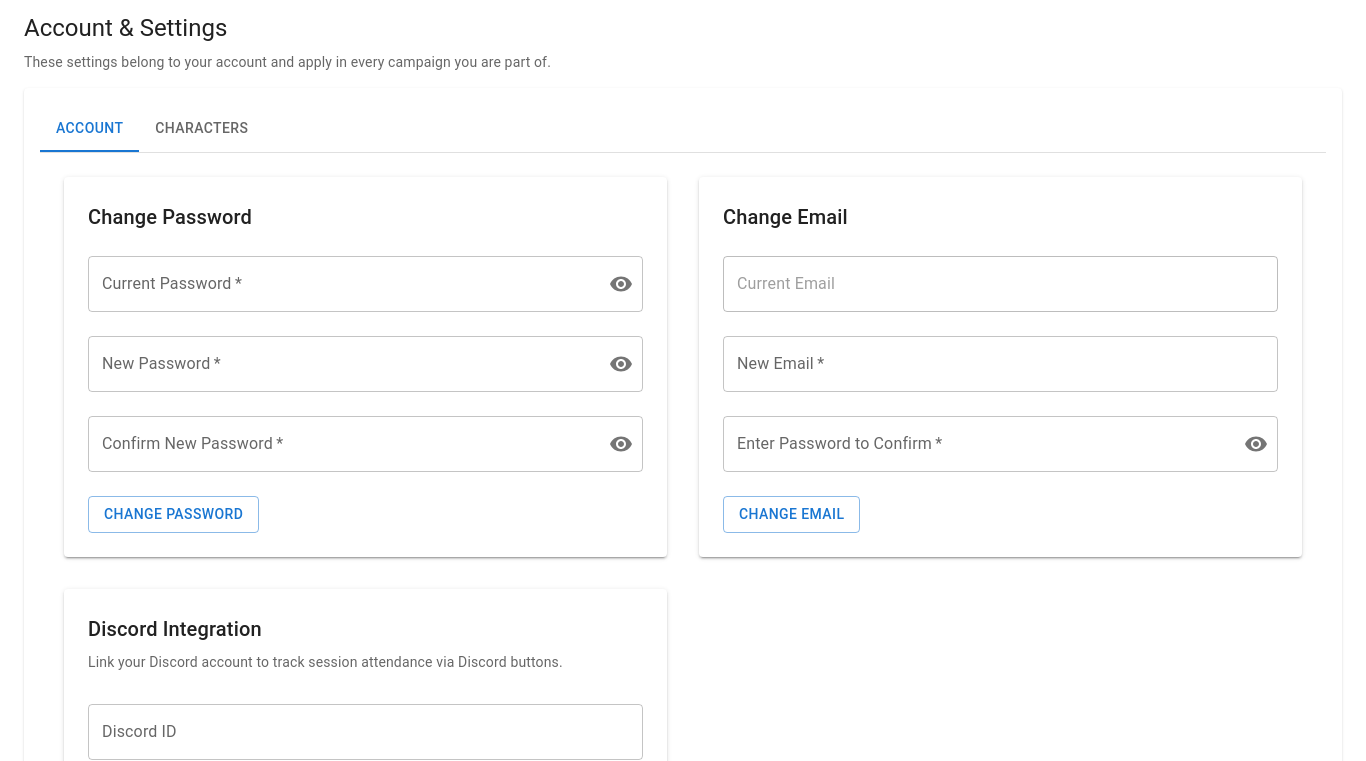
UserSettings › shows password validation error for short new password
Expected: the heading "Change Password" is shown, left=88, top=205, right=252, bottom=229
Type "oldpass123" into the password field labelled "Current Password *".
click(340, 284); type("oldpass123")  # box left=88, top=256, right=593, bottom=312
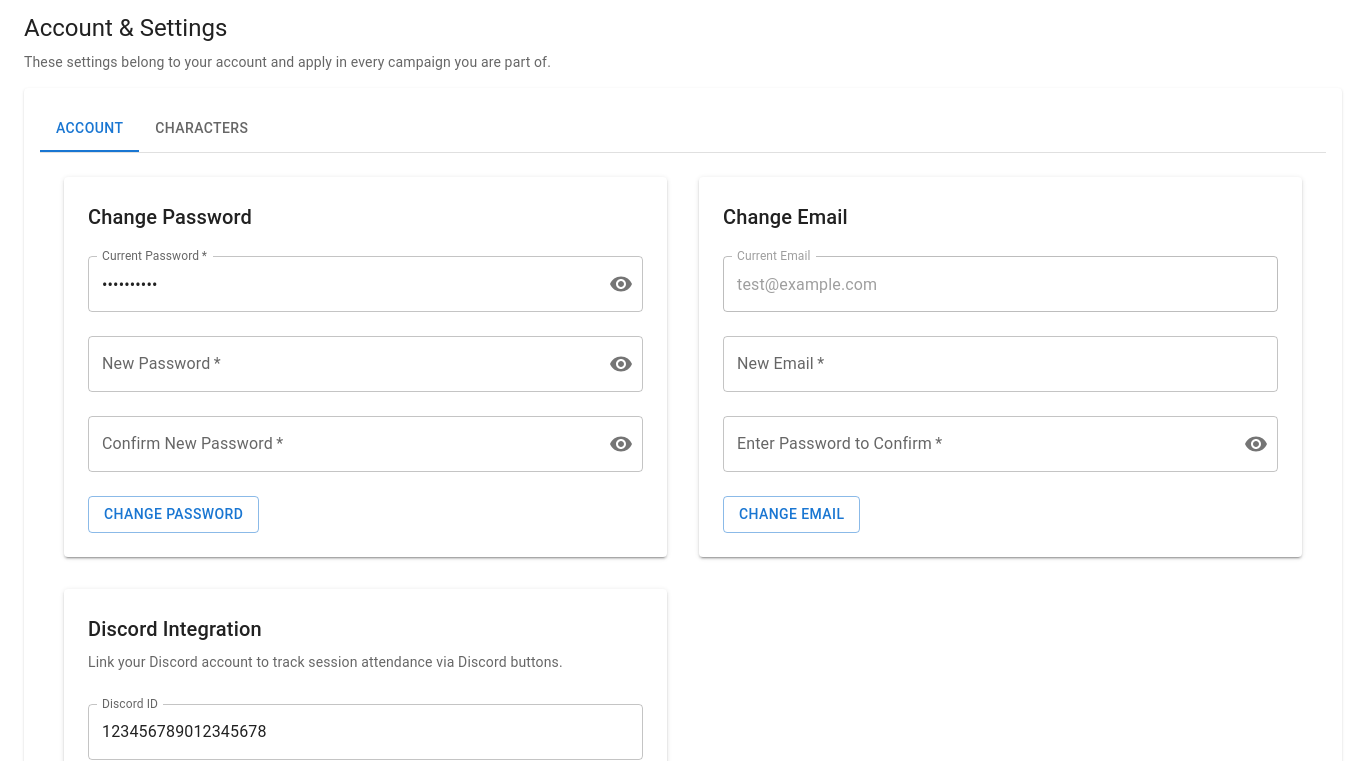
Type "short" into the password field labelled "New Password *".
click(340, 364); type("short")  # box left=88, top=336, right=593, bottom=392
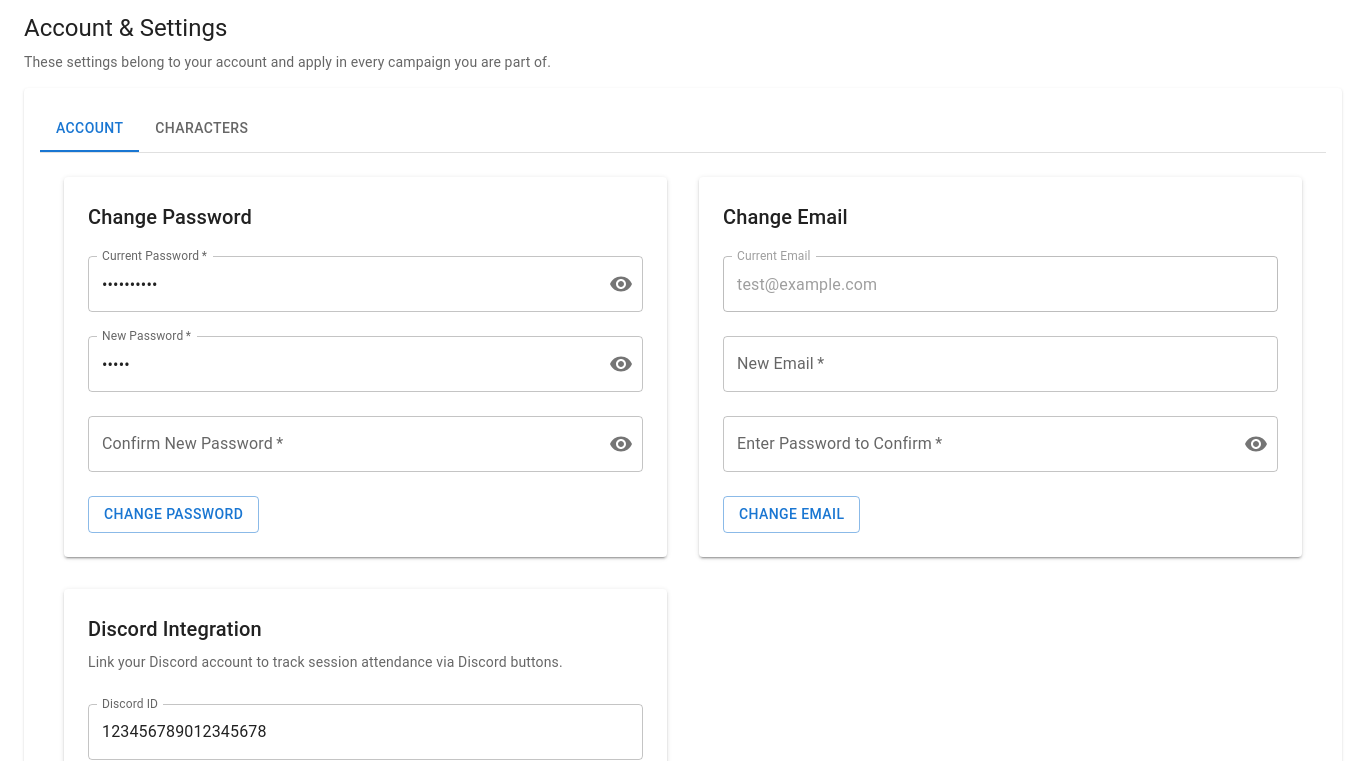
Type "short" into the password field labelled "Confirm New Password *".
click(340, 444); type("short")  # box left=88, top=416, right=593, bottom=472
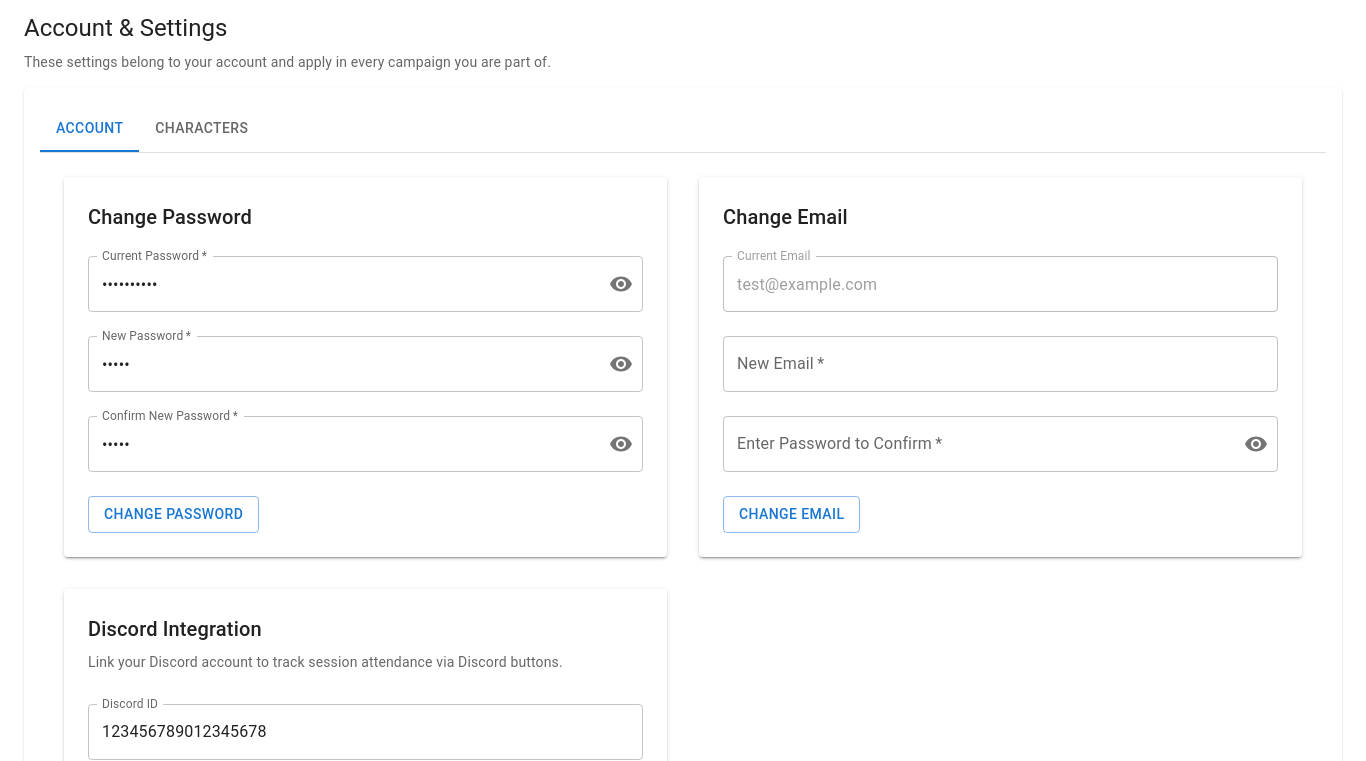
Click the button "Change Password".
click(174, 515)  # box left=88, top=496, right=259, bottom=533
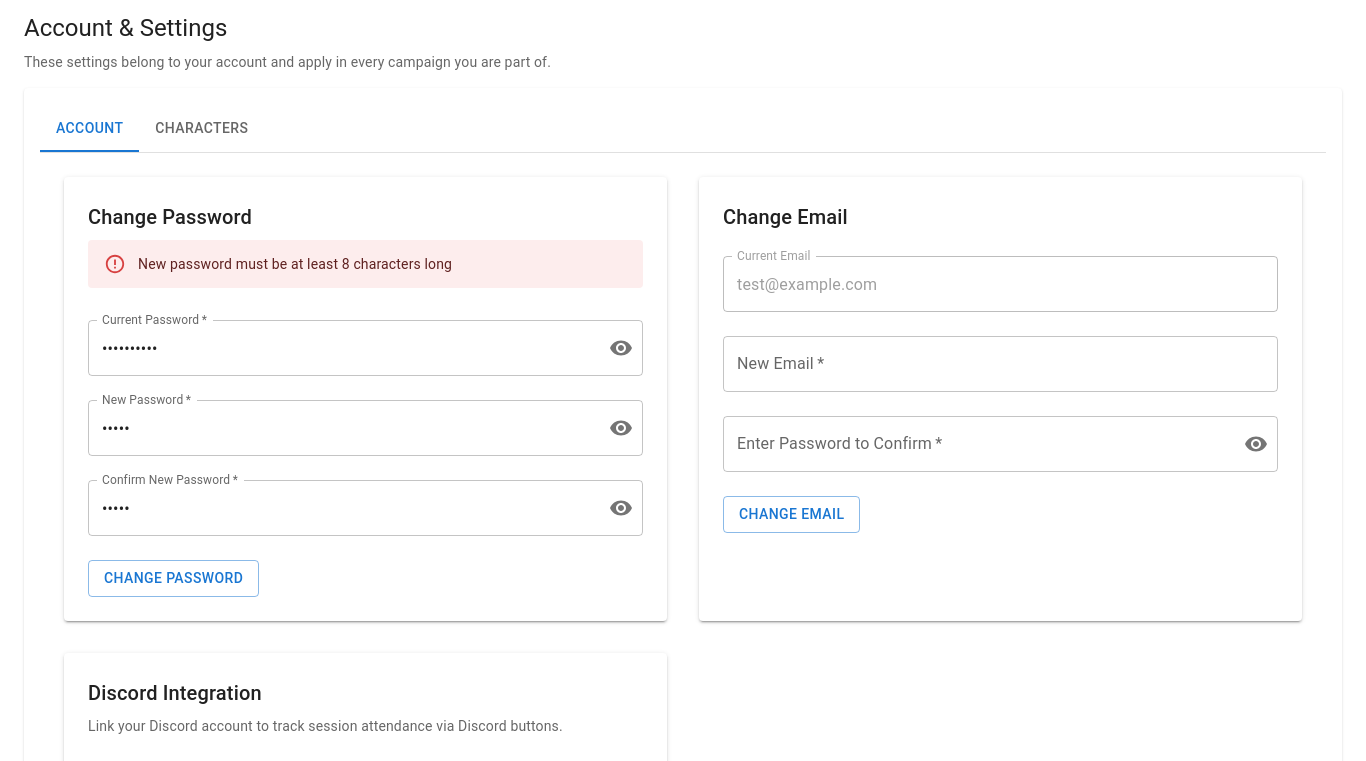
Now the text "New password must be at least 8 characters long" is shown, box left=138, top=256, right=452, bottom=272
